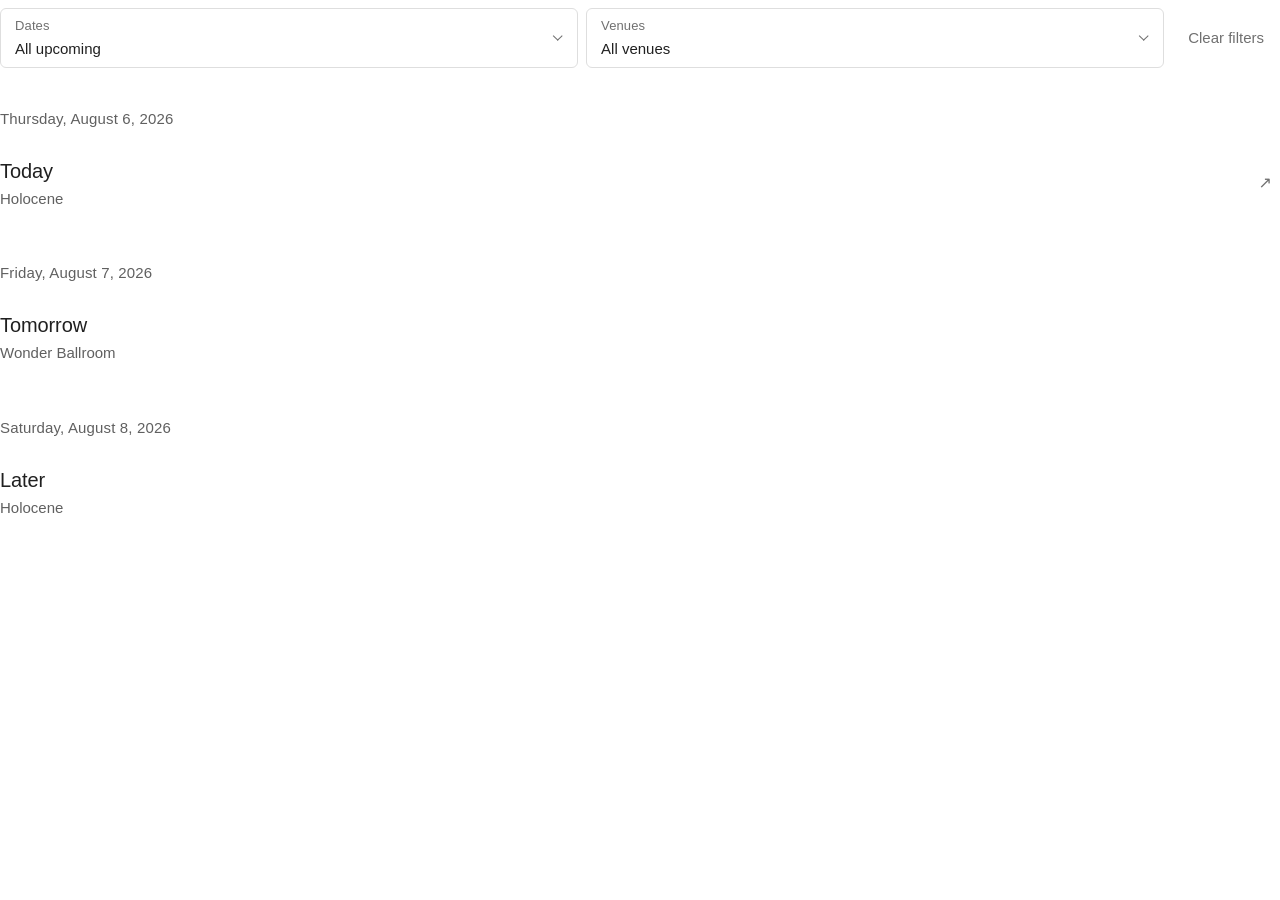
Test: EventExplorer › restores focus when an unfocusable outside target dismisses a filter
Click the button with aria-label "Dates, All upcoming" at (32, 26), box top-left (0, 8), bottom-right (578, 68)
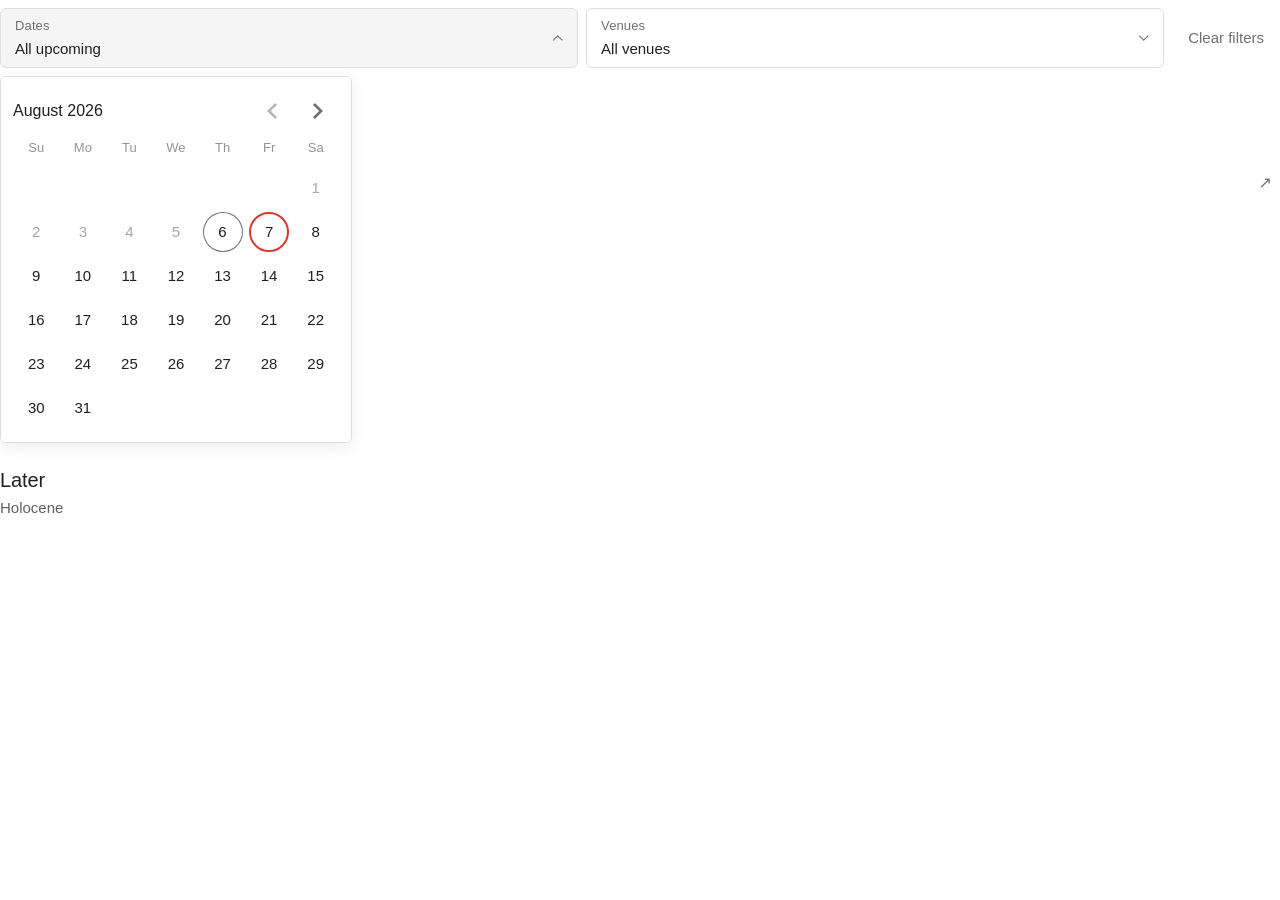
Press the mouse on the element that starts with "Dates" at (640, 266), box top-left (0, 0), bottom-right (1279, 532)
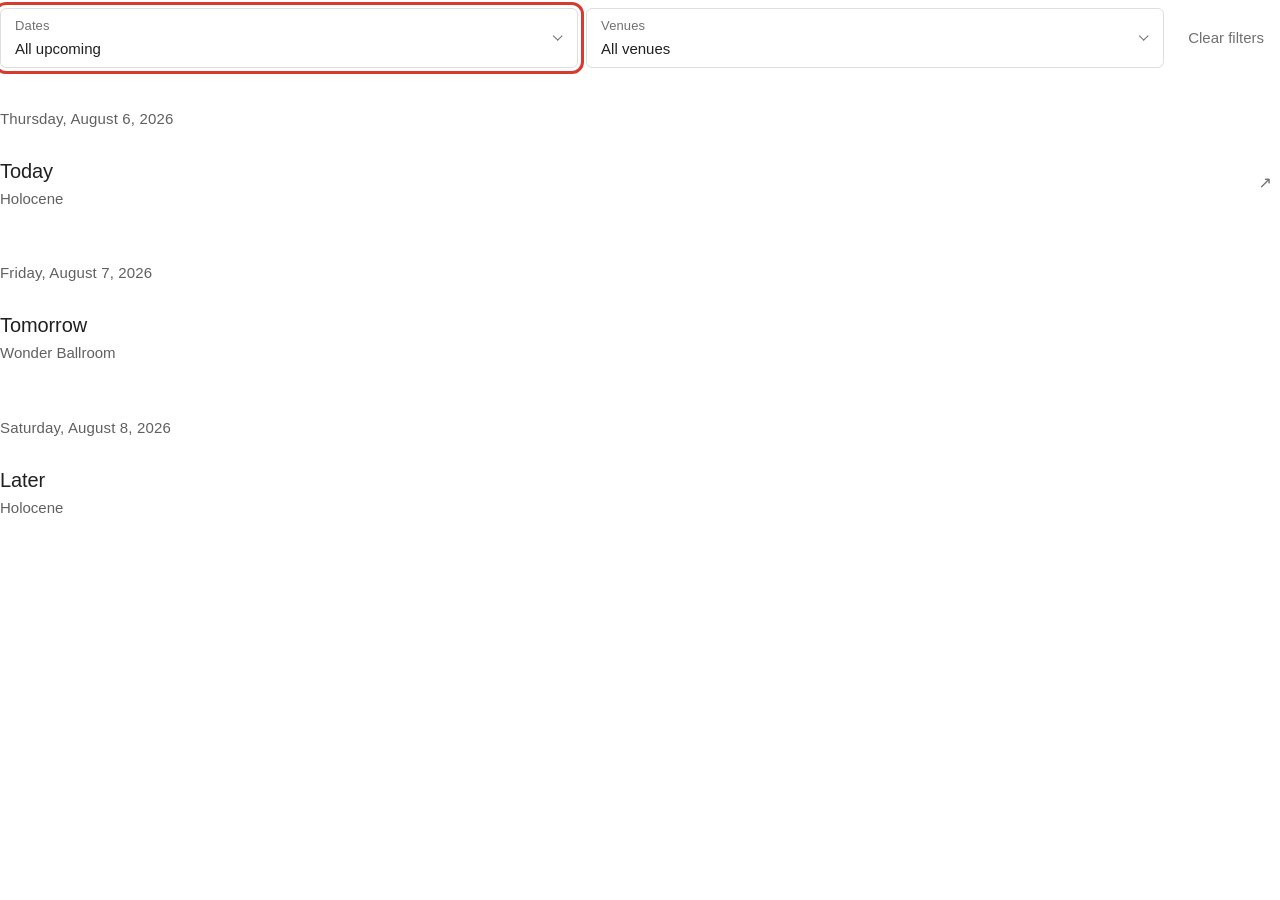
Expected: the dialog is gone
Click the button "Venues All venues" at (623, 26), box top-left (586, 8), bottom-right (1164, 68)
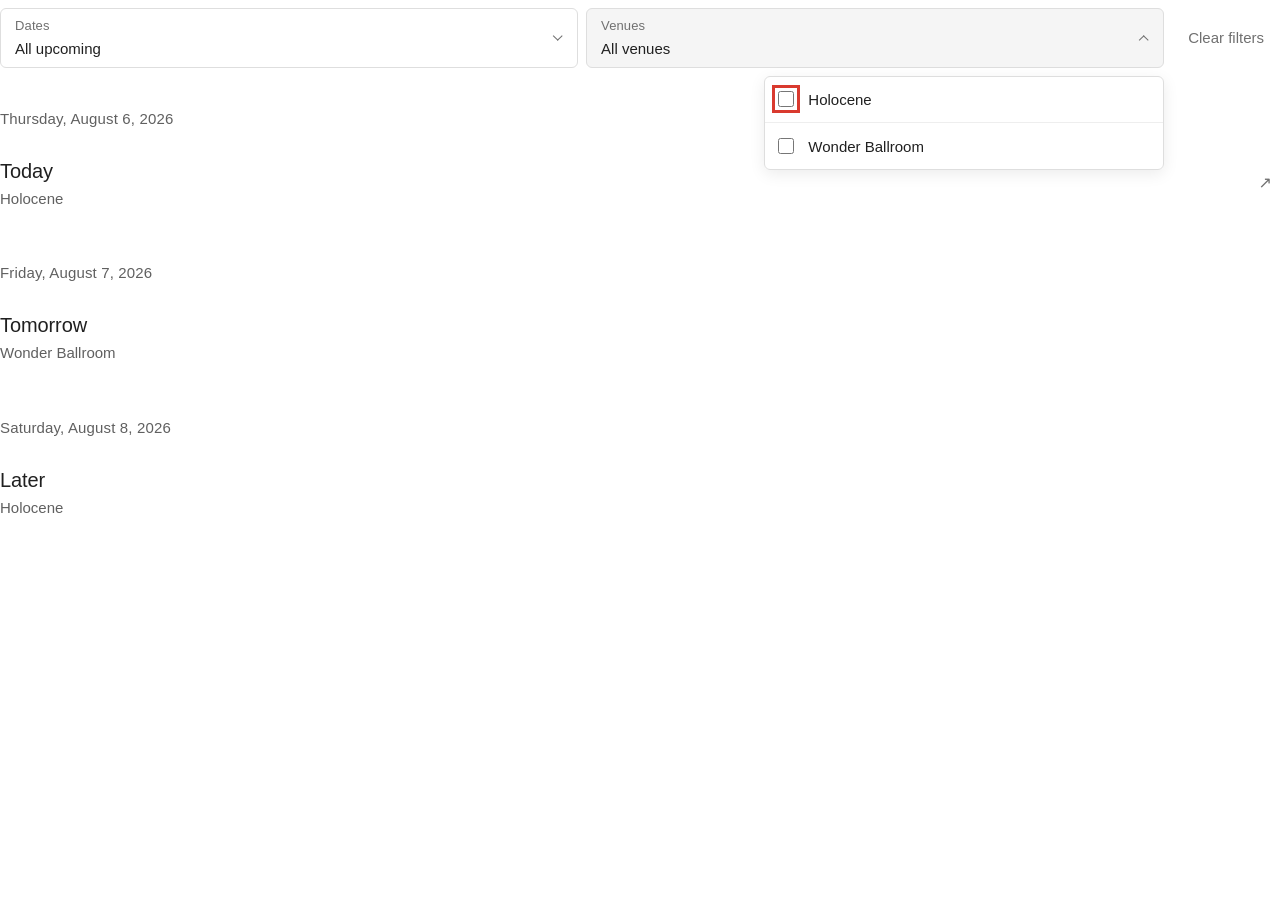
Press the mouse on the element that starts with "Dates" at (640, 266), box top-left (0, 0), bottom-right (1279, 532)
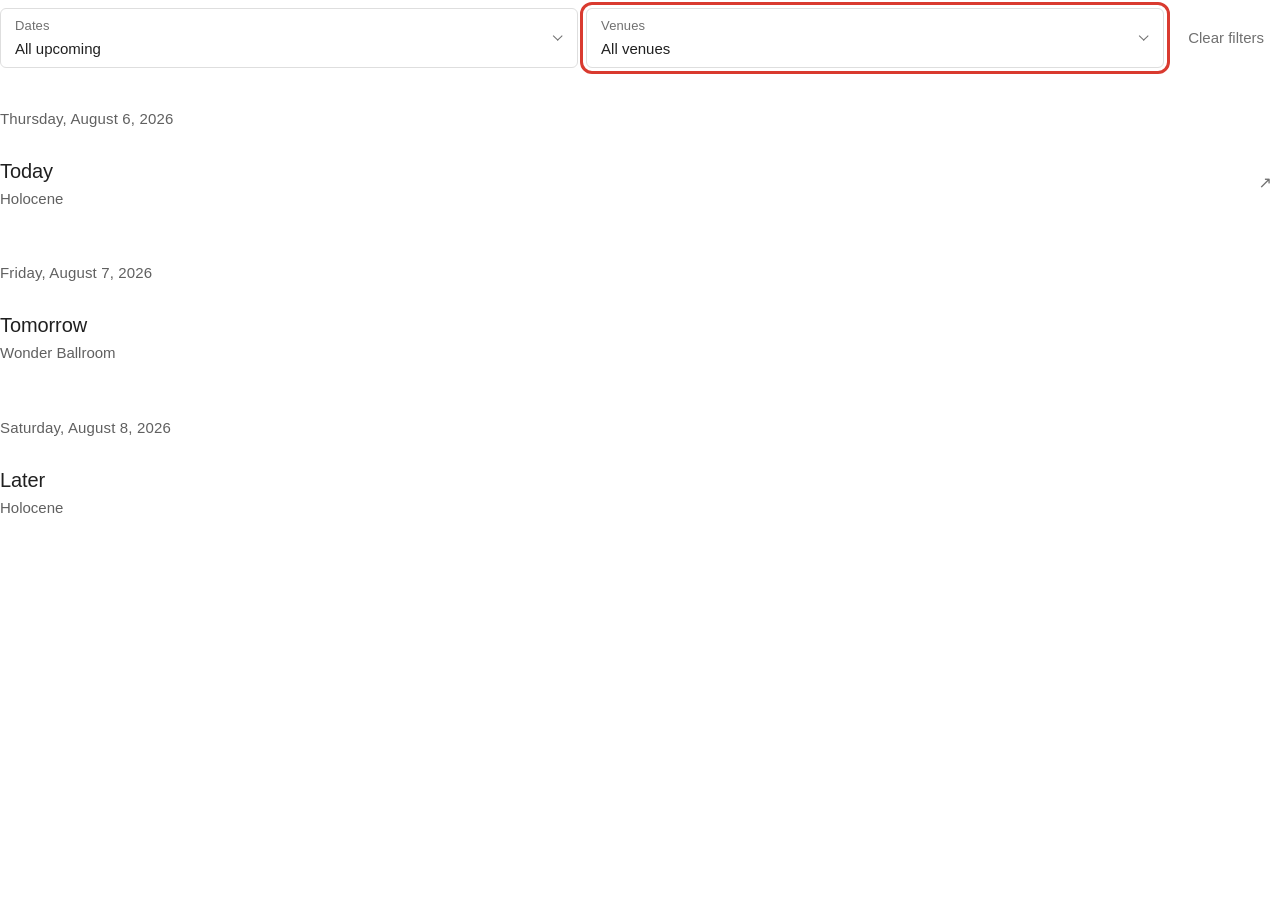
Expected: the button "Venues All venues" is collapsed, top-left (586, 8), bottom-right (1164, 68)
